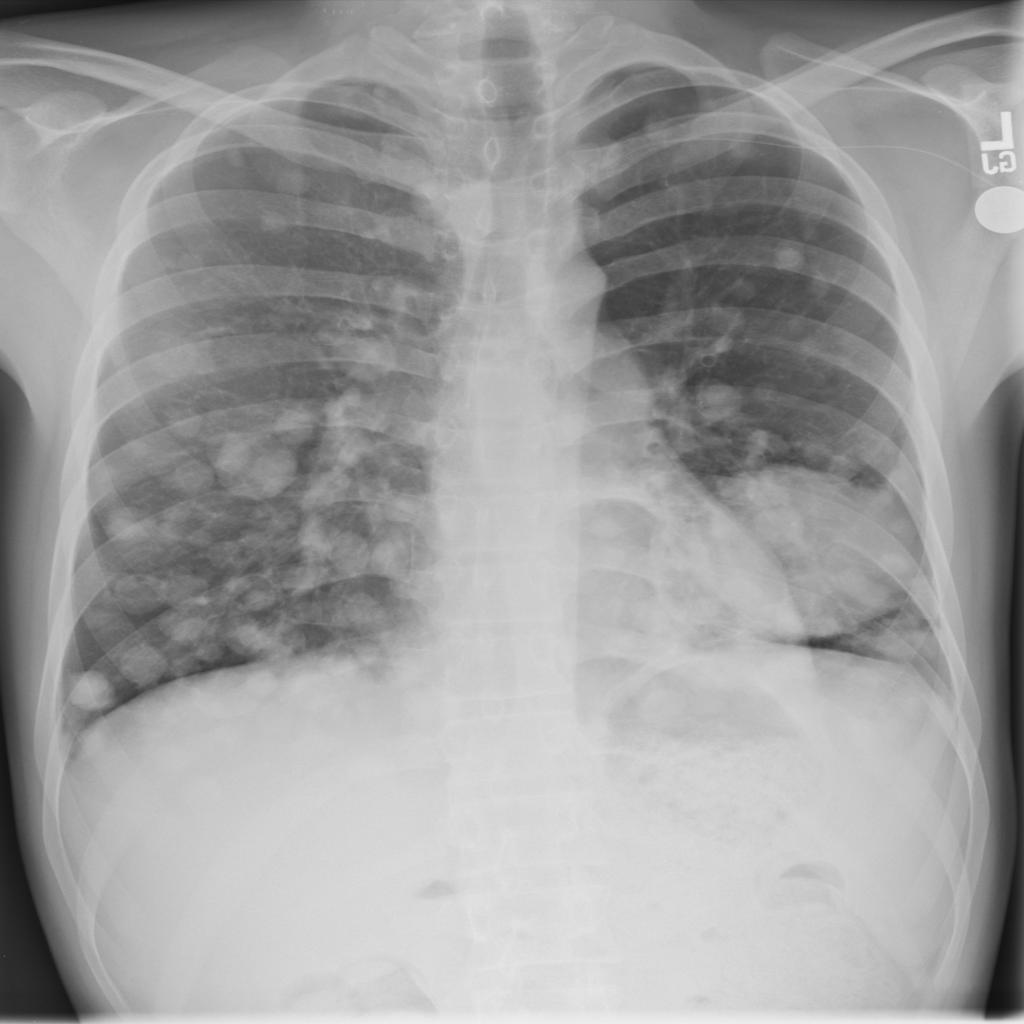nodule: (726, 476, 943, 627), (726, 487, 817, 550), (219, 434, 307, 498), (321, 317, 405, 384), (867, 609, 952, 674), (322, 573, 397, 641), (308, 519, 386, 584), (135, 323, 213, 386), (145, 571, 229, 629), (53, 659, 133, 719), (682, 369, 756, 433), (106, 636, 182, 697), (198, 428, 268, 494), (92, 496, 175, 551), (94, 563, 174, 618), (158, 450, 219, 498), (157, 396, 214, 446), (263, 399, 324, 445), (631, 104, 689, 151), (785, 421, 840, 469), (784, 212, 836, 262), (764, 234, 818, 282), (261, 156, 319, 200), (232, 659, 290, 703), (158, 240, 218, 282), (801, 256, 850, 307), (105, 420, 163, 463), (579, 505, 637, 548), (208, 135, 262, 181), (729, 259, 783, 305), (714, 267, 767, 313), (713, 121, 768, 165), (247, 202, 301, 243)
